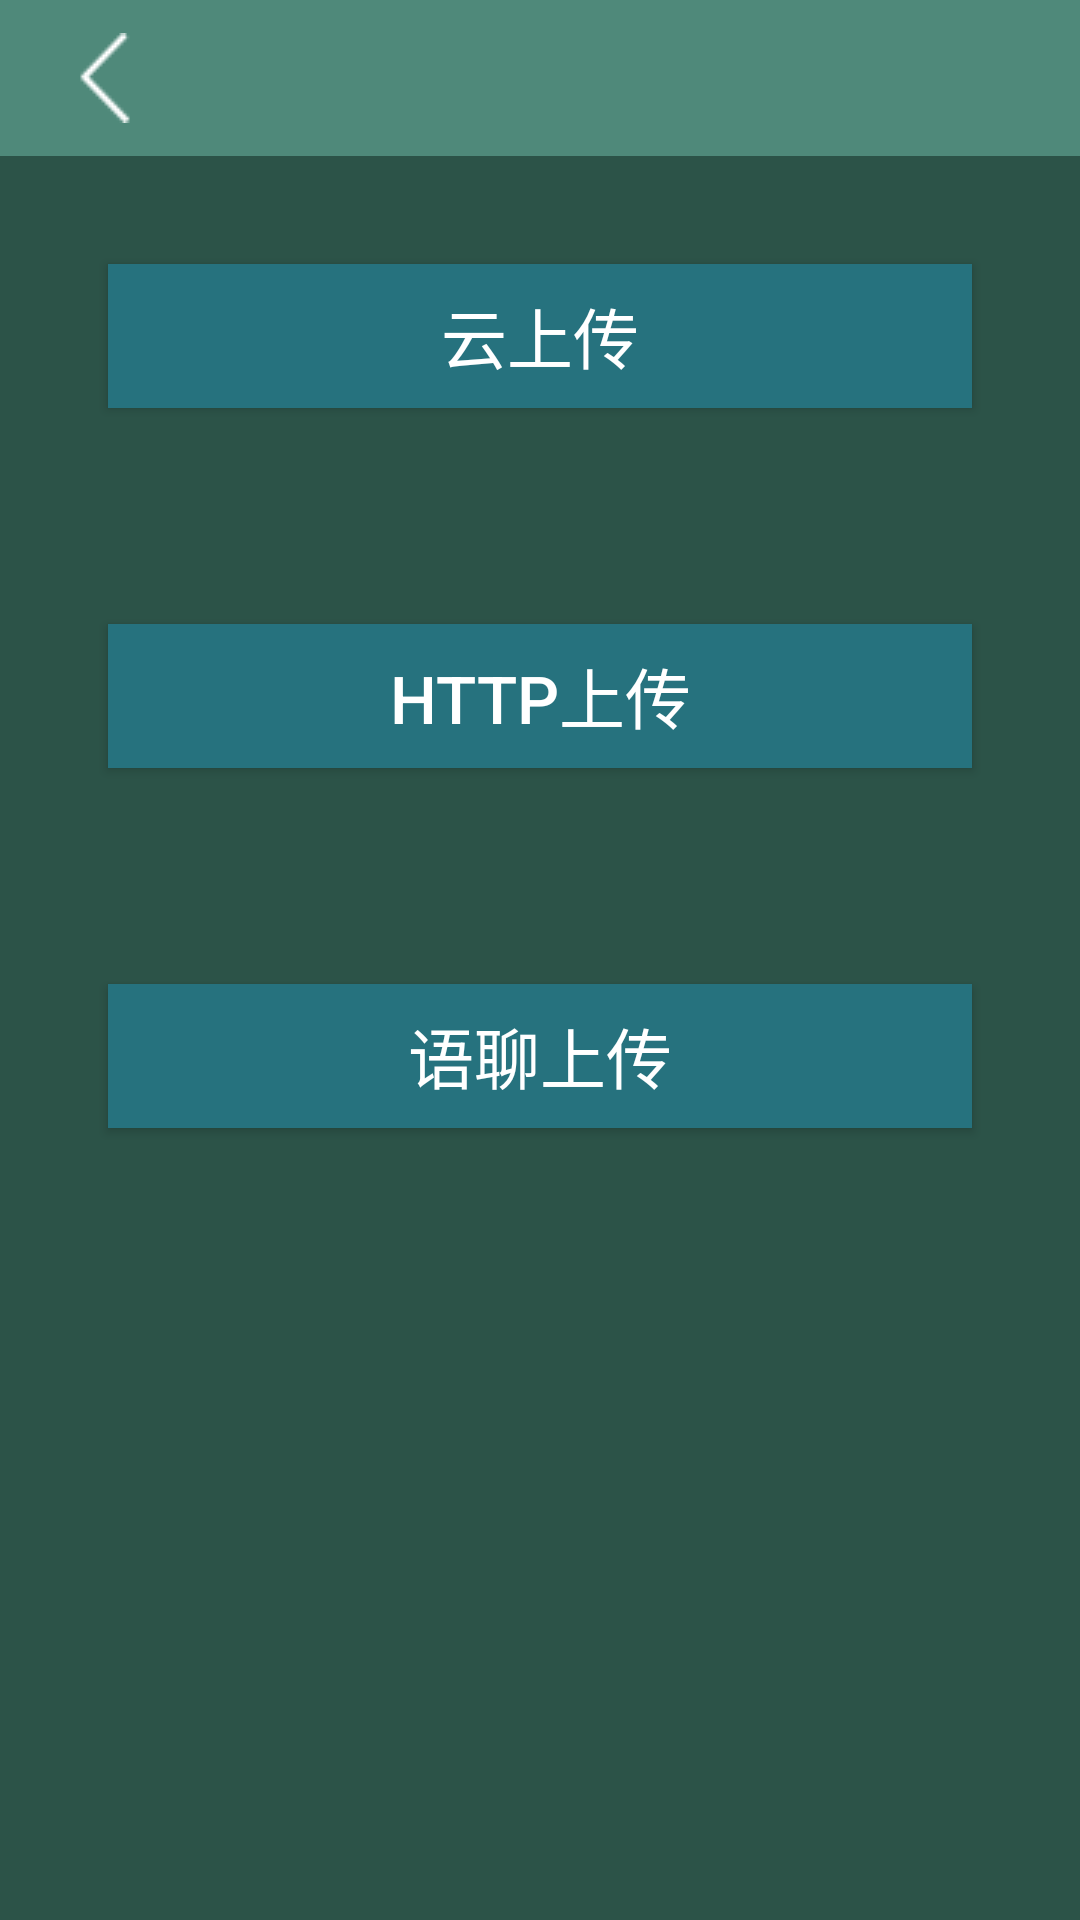

Icon click points for this 1080x1920 phone screenshot, format point (x, y):
back: point (105, 78)
